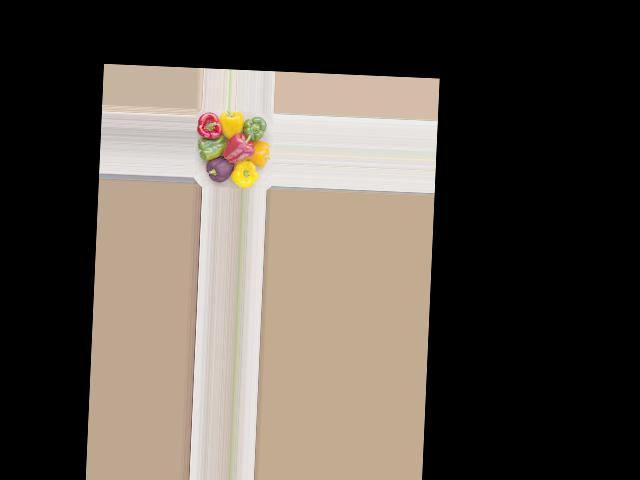bell_pepper: (198, 150, 234, 182)
